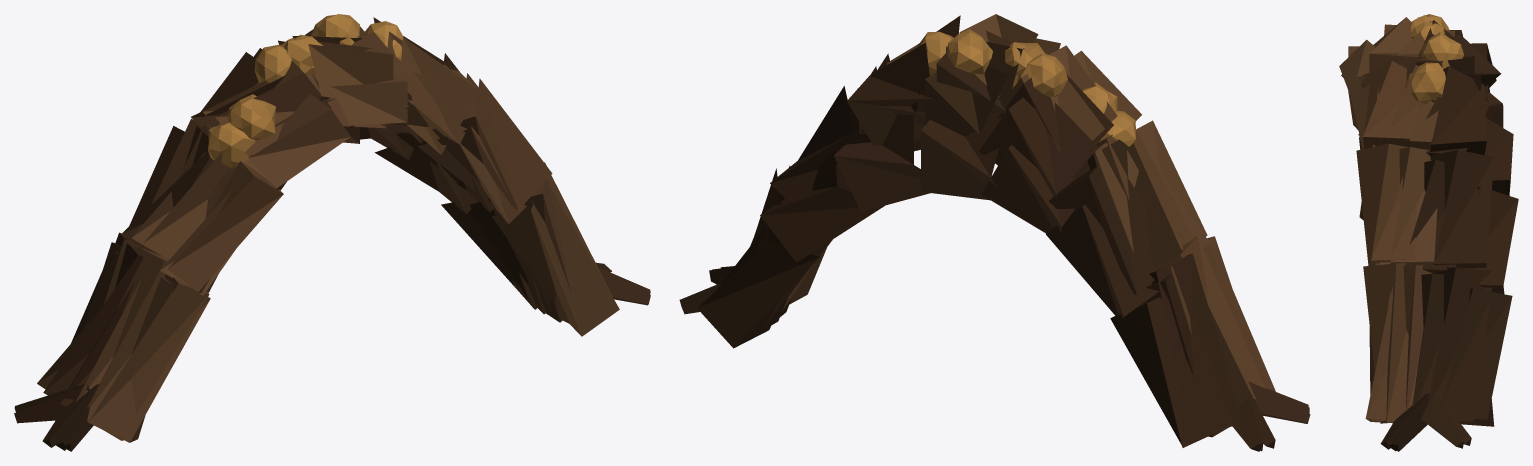
File: root-arch.glb
The picture shows the model from 3 angles, left to right: view 1: azimuth 30°, elevation 25°; view 2: azimuth 150°, elevation 25°; view 3: azimuth 270°, elevation 25°; orthographic projection. The views are drawn at different scales.
Visible parts, largest first — view 1: root-arch-b, root-arch-c, root-arch-a; view 2: root-arch-b, root-arch-c, root-arch-a; view 3: root-arch-c, root-arch-b, root-arch-a.
Part boxes in pixels (x1,y1,x2,y2): root-arch-b: (14,21,650,451); root-arch-c: (15,14,650,450); root-arch-a: (14,17,650,447); root-arch-b: (679,30,1308,451); root-arch-c: (683,14,1309,451); root-arch-a: (681,41,1310,448); root-arch-c: (1356,14,1501,451); root-arch-b: (1339,21,1518,449); root-arch-a: (1358,20,1493,451).
Bounding box in the file's own units: 0.3796 × 0.211 × 0.1114.
